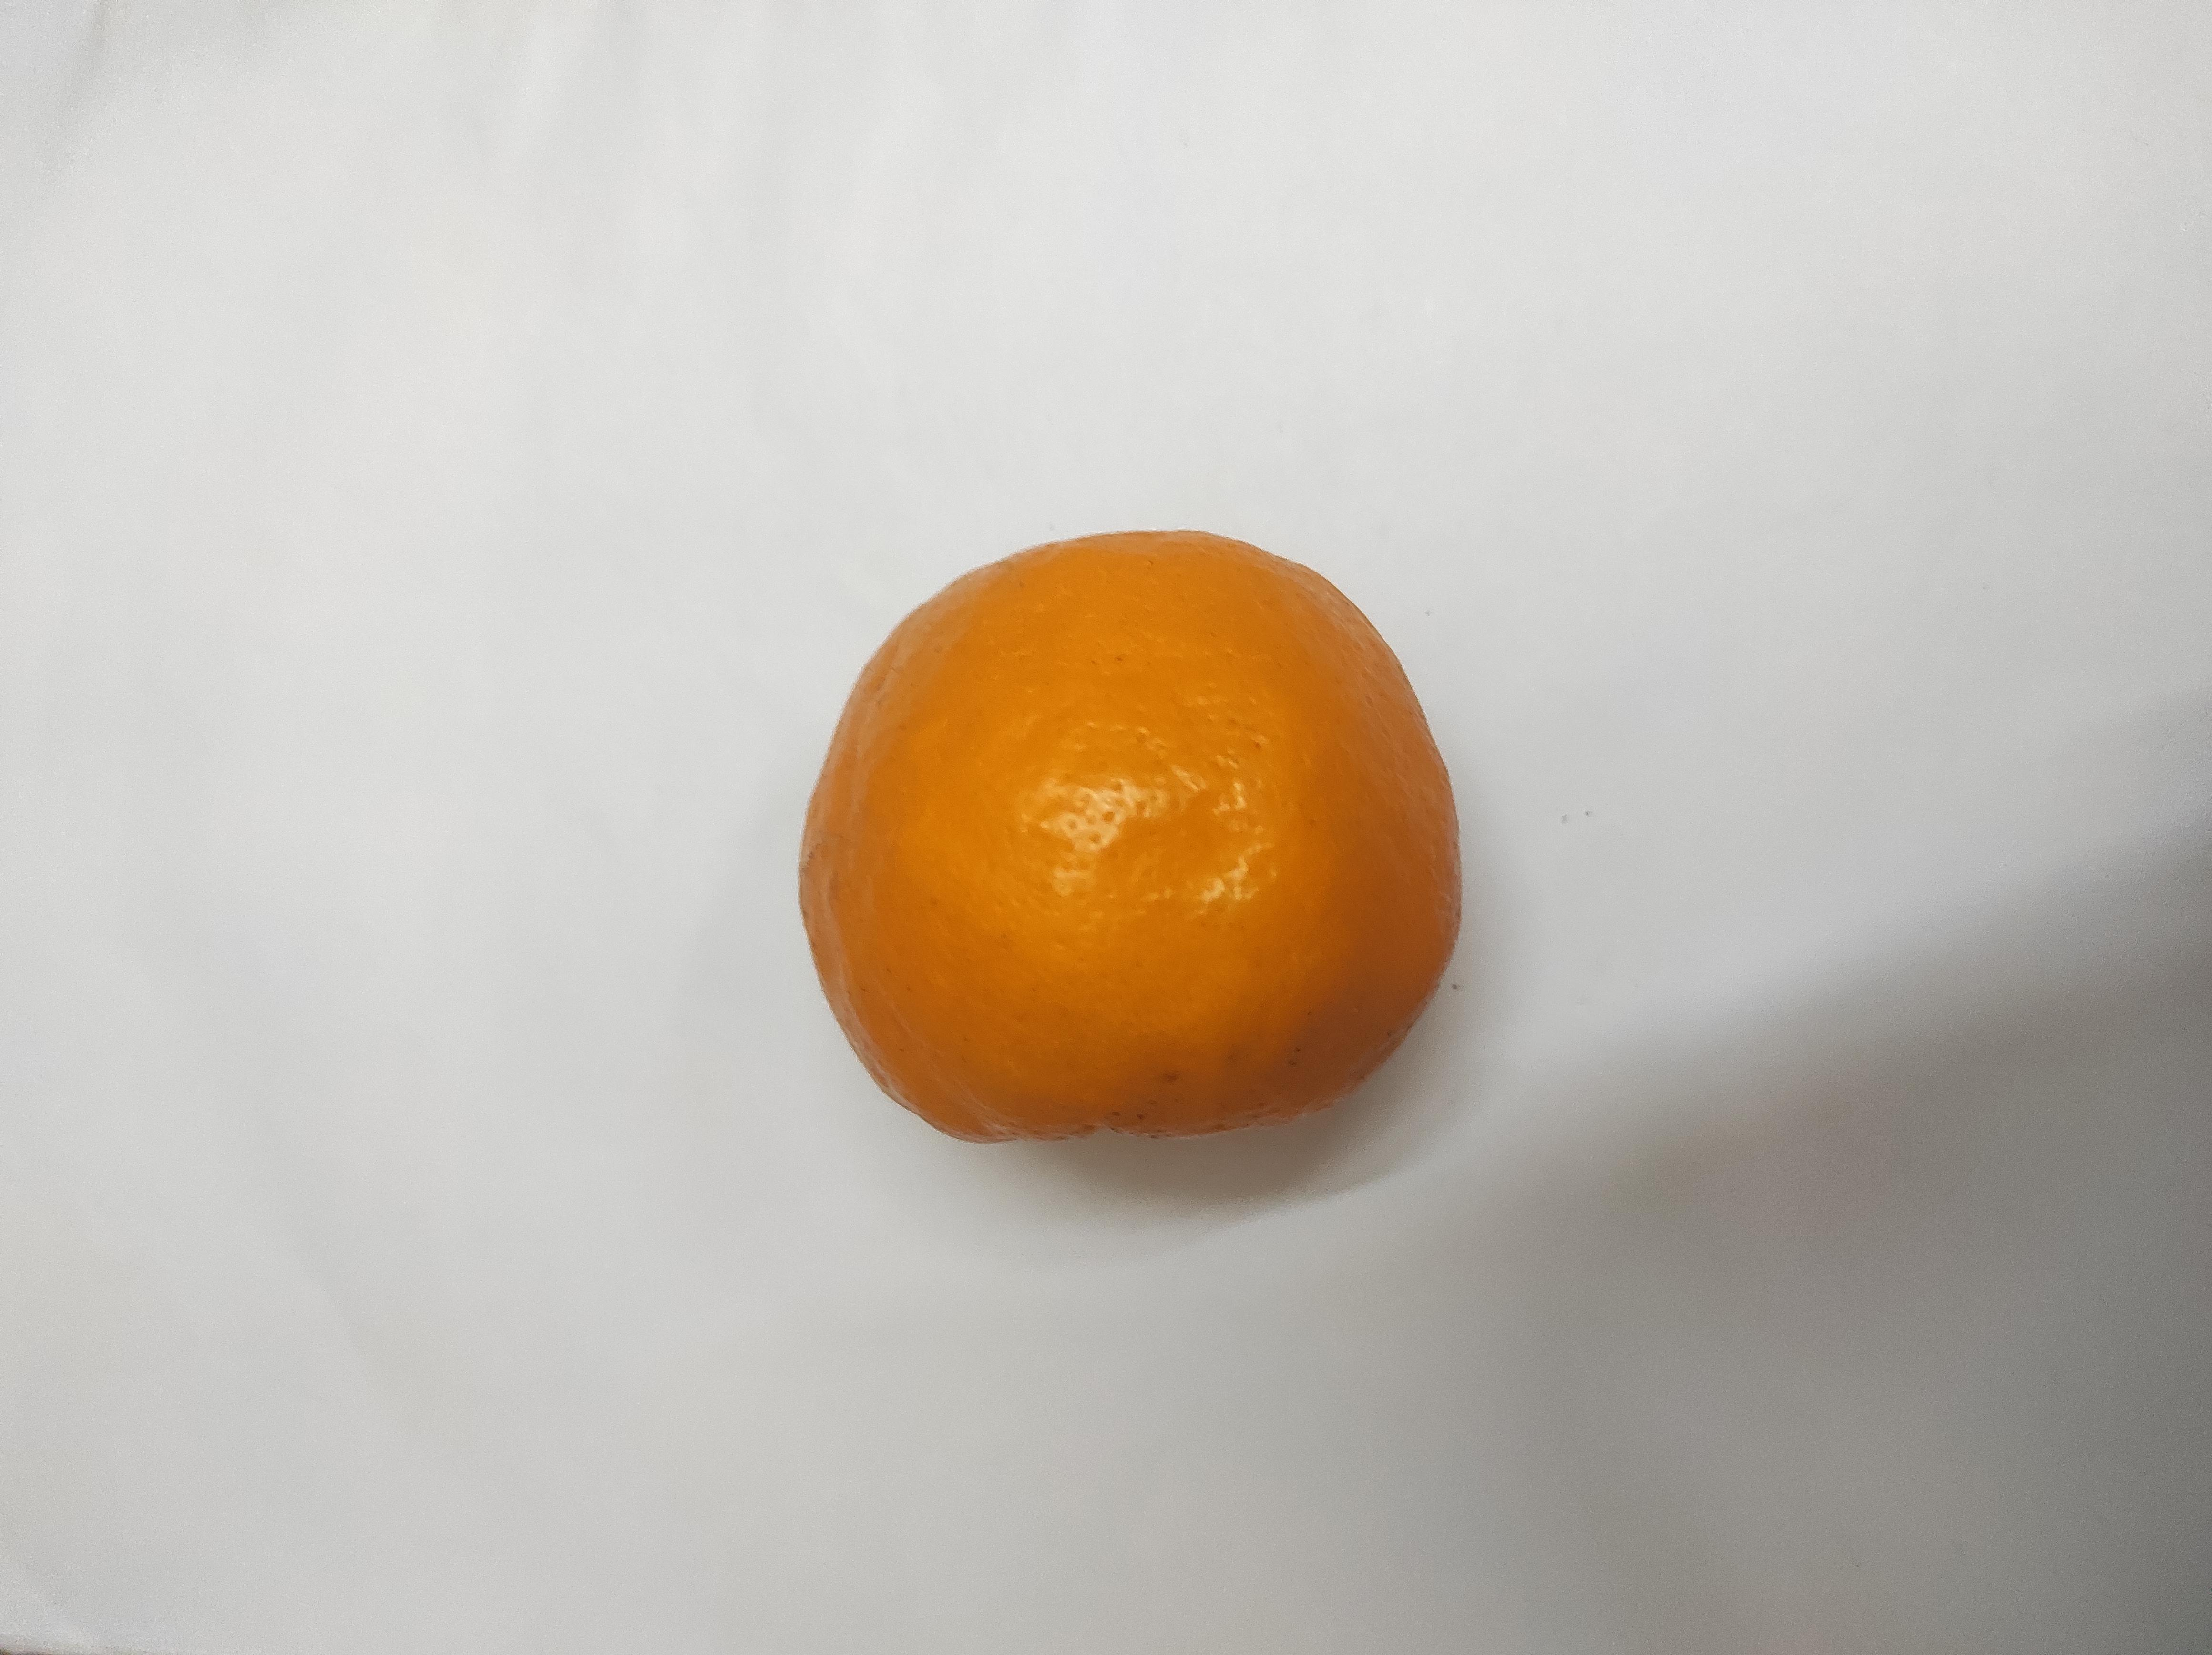Ripe: (810, 534, 1473, 1139)
